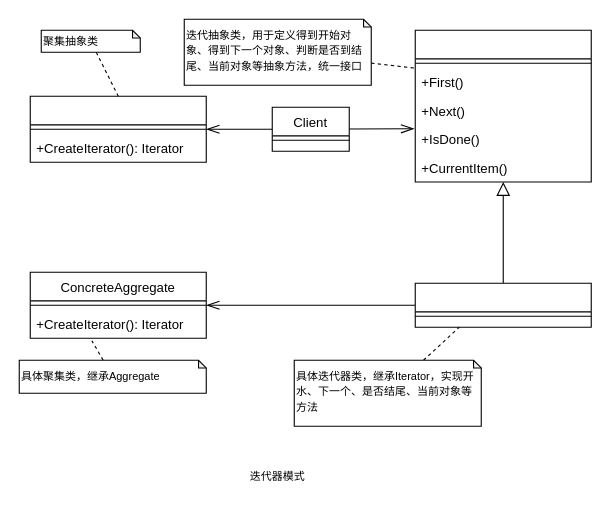
The diagram is 611 pixels wide and 512 high, and some of its shapes have lost their labels. The shapes that lost their labels are listed below. From the top down, each one's box as (x1, y1, x2, y2) in pixels, then its label:
(414, 29, 591, 182): Iterator
(29, 95, 206, 162): Aggregate
(414, 282, 591, 327): ConcreteIterator
